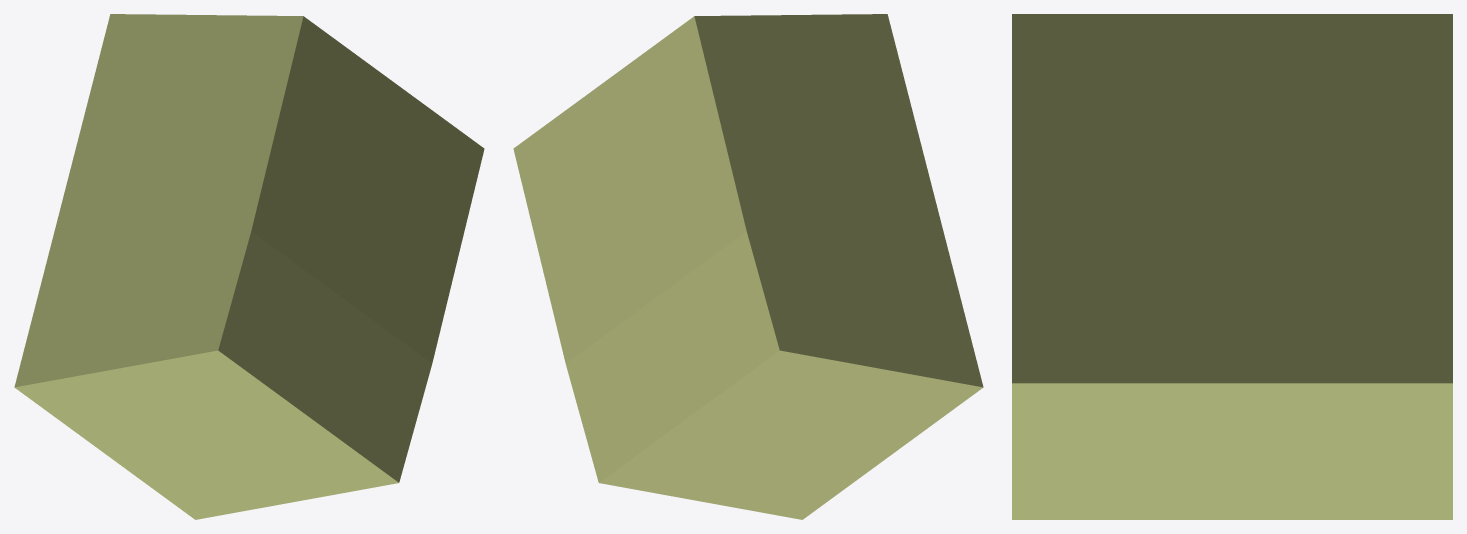
3 views of the same model, side by side, from view 1: azimuth 30°, elevation 25°; view 2: azimuth 150°, elevation 25°; view 3: azimuth 270°, elevation 25° (orthographic). The views are drawn at different scales.
Visible parts, largest first — view 1: 0_3_0_1_1_1_0_3_2_2; view 2: 0_3_0_1_1_1_0_3_2_2; view 3: 0_3_0_1_1_1_0_3_2_2.
Boxes of the visible parts, x1=… form: 0_3_0_1_1_1_0_3_2_2: x1=14, y1=14, x2=484, y2=519; 0_3_0_1_1_1_0_3_2_2: x1=513, y1=14, x2=983, y2=519; 0_3_0_1_1_1_0_3_2_2: x1=1012, y1=14, x2=1452, y2=519.
Bounding box in the file's own units: 8.3 × 9.95 × 9.
